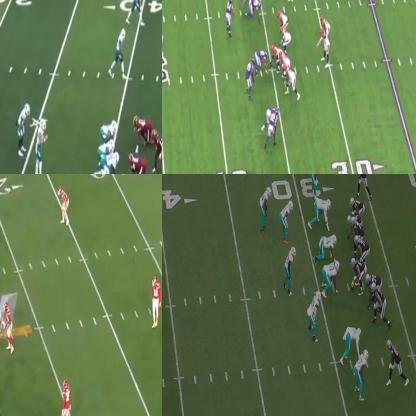CENTER: (349, 255, 366, 289), (104, 152, 122, 173), (269, 45, 282, 71)
DB: (357, 350, 370, 400), (266, 106, 280, 149), (150, 277, 161, 329), (260, 188, 270, 233), (58, 186, 69, 223), (61, 379, 69, 415), (310, 174, 323, 189)
LB: (224, 0, 236, 37), (309, 291, 319, 334), (245, 60, 256, 96), (280, 202, 292, 233), (288, 246, 298, 282), (152, 130, 161, 166)
QB: (37, 116, 48, 173), (318, 29, 333, 67)
SKILL: (387, 338, 405, 384), (17, 103, 30, 153), (115, 30, 125, 61), (348, 197, 365, 214), (358, 174, 370, 195), (321, 13, 330, 34), (133, 0, 145, 14)
